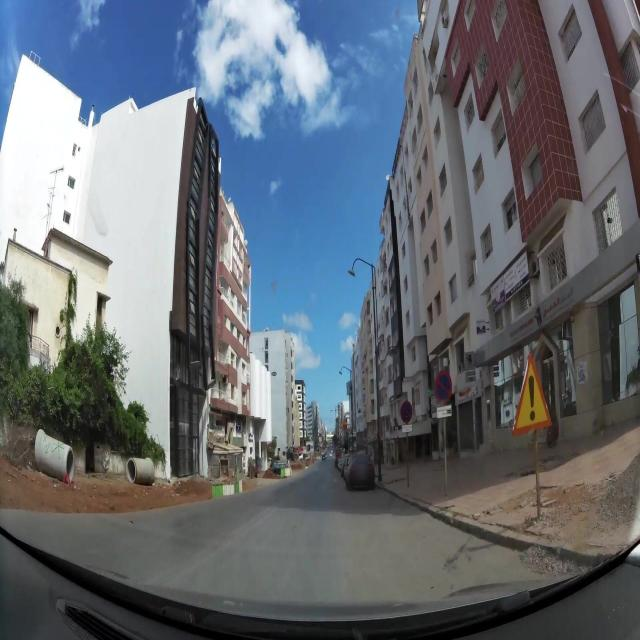forb_stopping: (434, 369, 453, 404), (400, 399, 412, 425)
